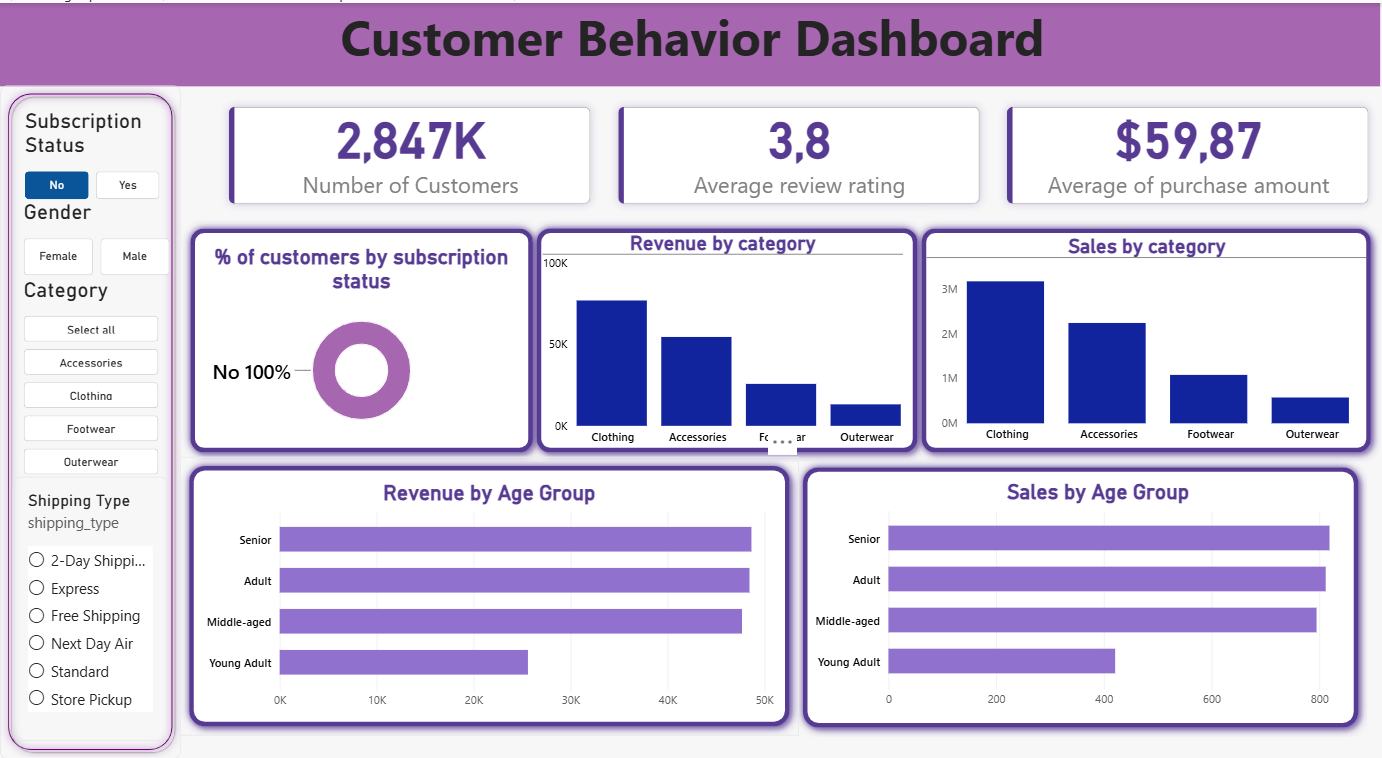

This screenshot's page, from the dashboard's own definition file:
{"tool":"powerbi","page":{"name":"Page 1","canvas":[1500,820],"ordinal":0},"visuals":[{"type":"cardVisual","fields":{"Data":["public customer.Number of Customers","public customer.Average review rating","public customer.Average of purchase amount"]},"box":[237.1,101.4,1260,127.1],"z":0},{"type":"textbox","box":[-36.7,0,1533.3,90],"z":1000},{"type":"shape","box":[196.8,234.5,391.4,262.9],"z":2000},{"type":"donutChart","title":"% of customers by subscription status","fields":{"Category":["public customer.subscription_status"],"Y":["CountNonNull(public customer.customer_id)"]},"box":[186.8,247.4,410,235.7],"z":3000},{"type":"shape","box":[572.5,234.5,432.9,262.9],"z":4000},{"type":"shape","box":[989.7,234.5,507.1,262.9],"z":5000},{"type":"clusteredColumnChart","title":"Revenue by category","fields":{"Category":["public customer.category"],"Y":["Sum(public customer.purchase_amount)"]},"box":[588.6,247.6,391.4,235.7],"z":6000},{"type":"clusteredColumnChart","title":"Sales by category","fields":{"Category":["public customer.category"],"Y":["Sum(public customer.customer_id)"]},"box":[1005.1,237.2,478.9,259.4],"z":7000},{"type":"shape","box":[0,89.9,196.2,730],"z":8000},{"type":"advancedSlicerVisual","fields":{"Values":["public customer.subscription_status"]},"box":[26.7,114.2,146.8,99.3],"z":9000},{"type":"advancedSlicerVisual","fields":{"Values":["public customer.gender"]},"box":[25.2,213.5,158.6,83],"z":10000},{"type":"advancedSlicerVisual","title":"Category","fields":{"Values":["public customer.category"]},"box":[25.2,296.5,146.8,217.9],"z":11000},{"type":"listSlicer","title":"Shipping Type","fields":{"Values":["public customer.shipping_type"]},"box":[13.3,514.4,169,286.1],"z":12000},{"type":"shape","box":[861,493.5,622.3,302.3],"z":12500},{"type":"clusteredBarChart","title":"Sales by Age Group","fields":{"Category":["public customer.age_group"],"Y":["CountNonNull(public customer.customer_id)"]},"box":[882.6,516.6,616.7,252],"z":13000},{"type":"shape","box":[195.2,491.9,671.1,302.3],"z":13750},{"type":"clusteredBarChart","title":"Revenue by Age Group","fields":{"Category":["public customer.age_group"],"Y":["Sum(public customer.purchase_amount)"]},"box":[222.4,517.7,616.7,252],"z":16250}]}

Visuals, with their boxes in screenshot pixels (x1, y1, x2, y2), scaled from the page's 1500x820 canvas onto the 1382x758 screenshot:
cardVisual - public customer.Number of Customers x public customer.Average review rating: bbox(218, 94, 1379, 211)
textbox: bbox(0, 0, 1379, 83)
shape: bbox(181, 217, 542, 460)
"% of customers by subscription status" donutChart: bbox(172, 229, 550, 447)
shape: bbox(527, 217, 926, 460)
shape: bbox(912, 217, 1379, 460)
"Revenue by category" clusteredColumnChart: bbox(542, 229, 903, 447)
"Sales by category" clusteredColumnChart: bbox(926, 219, 1367, 459)
shape: bbox(0, 83, 181, 757)
advancedSlicerVisual - public customer.subscription_status: bbox(25, 106, 160, 197)
advancedSlicerVisual - public customer.gender: bbox(23, 197, 169, 274)
"Category" advancedSlicerVisual: bbox(23, 274, 158, 476)
"Shipping Type" listSlicer: bbox(12, 476, 168, 740)
shape: bbox(793, 456, 1367, 736)
"Sales by Age Group" clusteredBarChart: bbox(813, 478, 1381, 710)
shape: bbox(180, 455, 798, 734)
"Revenue by Age Group" clusteredBarChart: bbox(205, 479, 773, 712)
